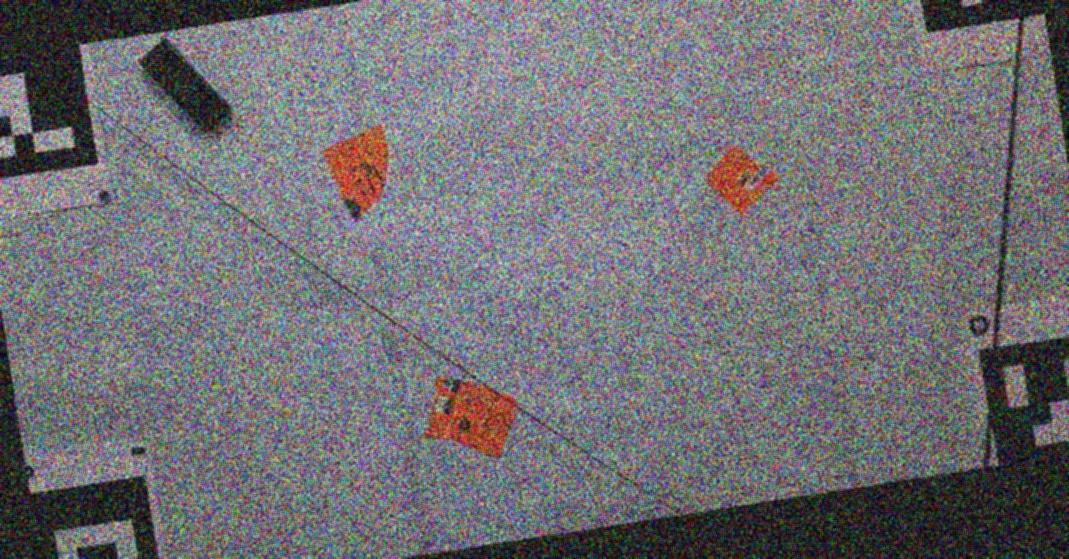obstacle: (136, 36, 233, 134), (422, 373, 514, 462), (324, 122, 391, 224), (703, 146, 779, 216)
